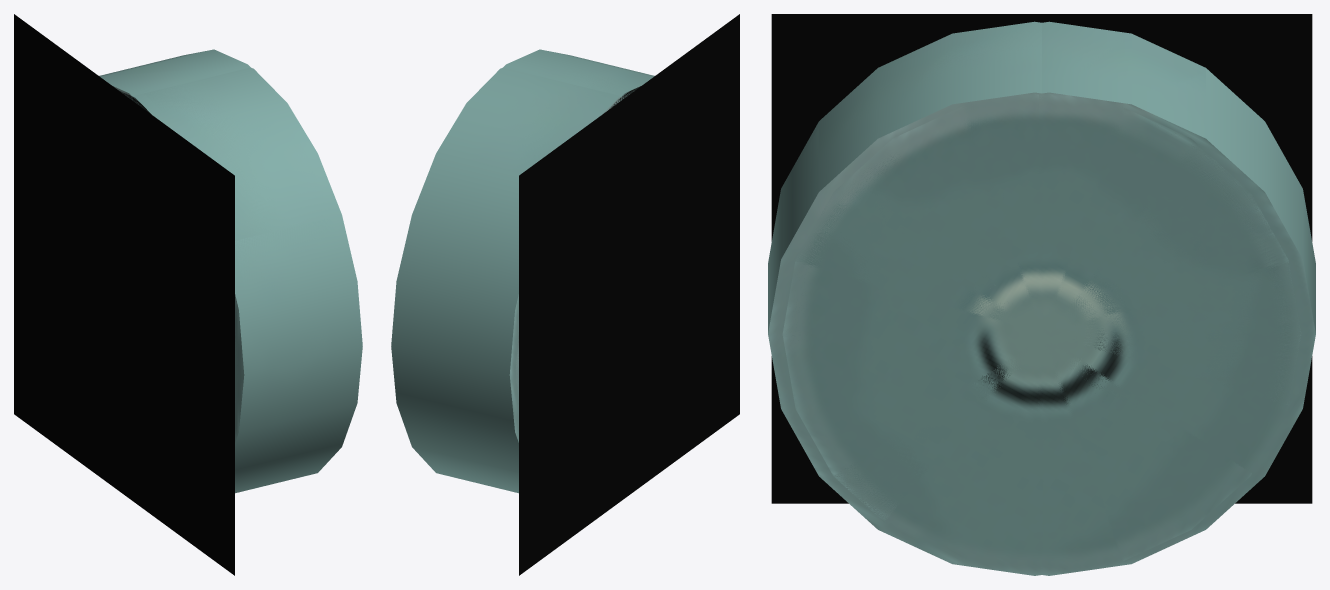
Rendered from wheelsWithSpokes.fbx.
The picture shows the model from 3 angles, left to right: view 1: azimuth 30°, elevation 25°; view 2: azimuth 150°, elevation 25°; view 3: azimuth 270°, elevation 25°; orthographic projection. The views are drawn at different scales.
Parts seen in each view (by area): view 1: spokesA, wheelA, wheelA3, wheelA1, wheelA2; view 2: spokesA, wheelA1, wheelA2, wheelA, wheelA3; view 3: wheelA2, wheelA3, spokesA, wheelA, wheelA1.
Boxes of the visible parts, x1,y1,x2,y2 form: spokesA: (14, 14, 234, 575); wheelA: (119, 70, 352, 493); wheelA3: (143, 67, 362, 481); wheelA1: (99, 57, 239, 395); wheelA2: (99, 49, 250, 91); spokesA: (519, 14, 739, 575); wheelA1: (401, 70, 629, 493); wheelA2: (391, 67, 610, 490); wheelA: (515, 52, 653, 404); wheelA3: (503, 49, 654, 92); wheelA2: (782, 28, 1315, 575); wheelA3: (768, 28, 1300, 575); spokesA: (771, 14, 1312, 503); wheelA: (768, 21, 1041, 284); wheelA1: (1042, 21, 1315, 268).
Bounding box in the file's own units: 1.12 × 3.39 × 3.44.
2 materials, 2 textured.
